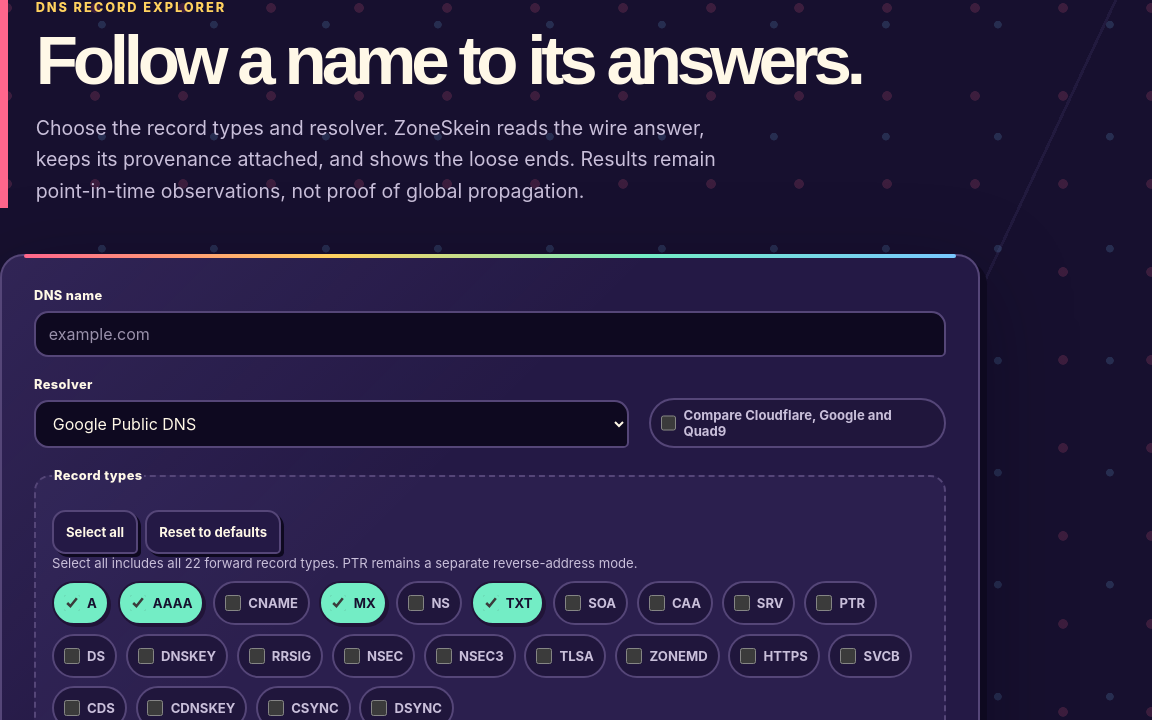
Test: DNS record explorer › rejects unsafe input before any network request
The image size is (1152, 720).
Step 1. Type "https://example.com/path" into the field labelled "DNS name" → (490, 334), box [34,311,946,357]
(page scrolled)
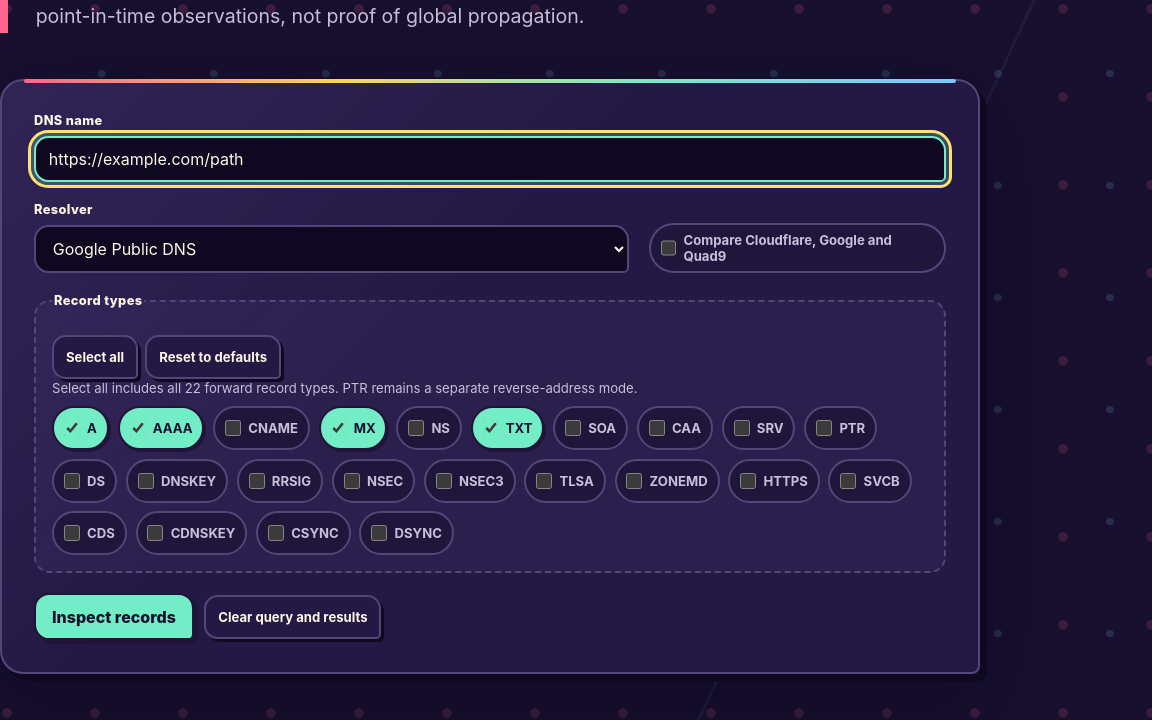
Step 2. Click the button "Inspect records" → (114, 617), box [34,593,194,640]
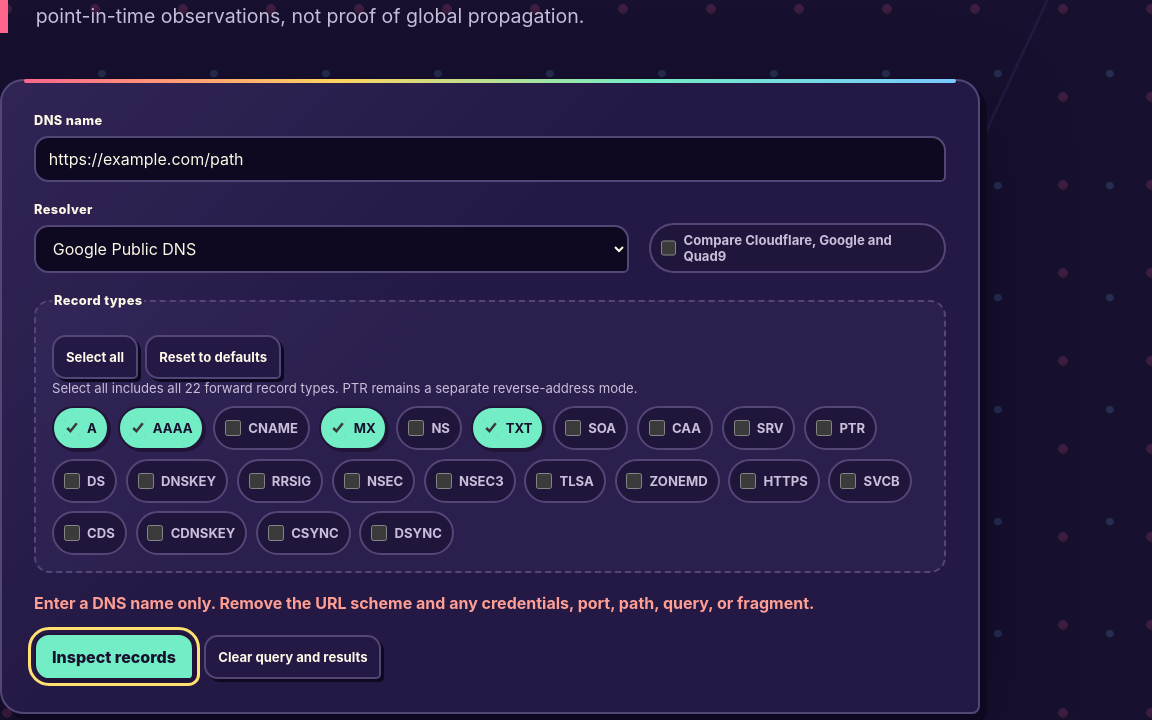
Expected: the message shows "DNS name only", [34,593,814,613]
